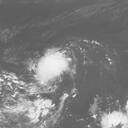cyclone: (36, 50, 74, 83)
